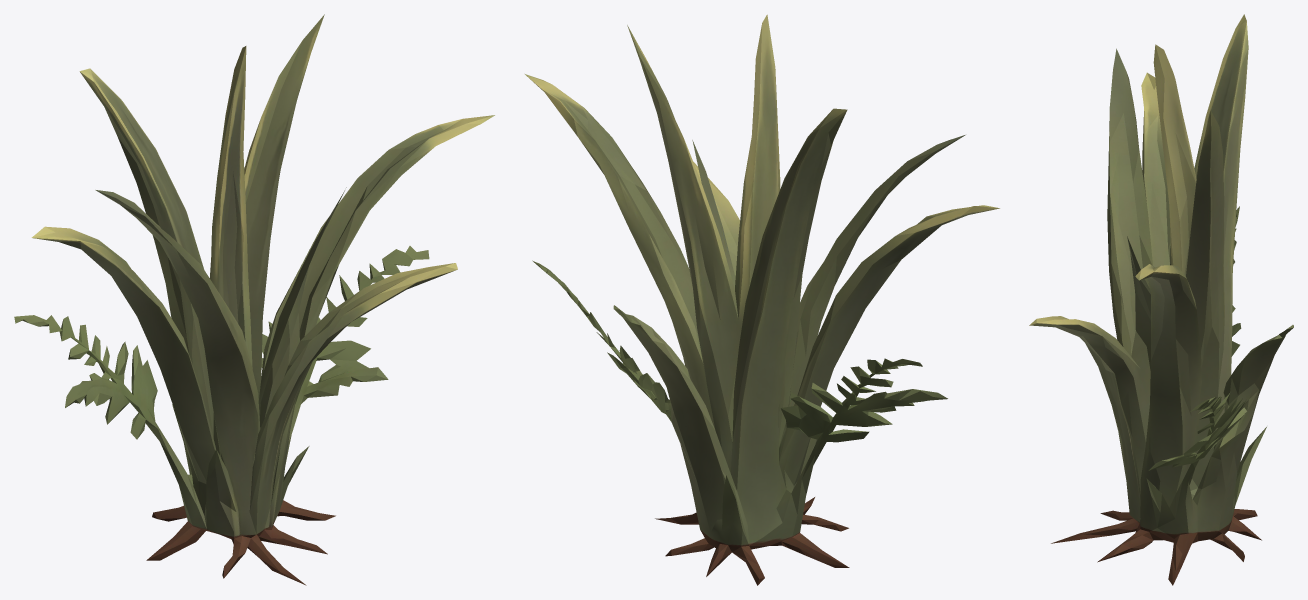
Rendered from base_basic_pbr.glb.
3 renders of one model, left to right at view 1: azimuth 30°, elevation 25°; view 2: azimuth 150°, elevation 25°; view 3: azimuth 270°, elevation 25°, orthographic. The views are drawn at different scales.
Visible parts, largest first — view 1: Mesh; view 2: Mesh; view 3: Mesh.
Boxes of the visible parts, <box> form: Mesh: <box>14,14,494,585</box>; Mesh: <box>525,14,999,585</box>; Mesh: <box>1029,14,1293,585</box>.
Size of the model in its own units: 1.7 by 1.78 by 0.8594.
1 material, 1 textured.
